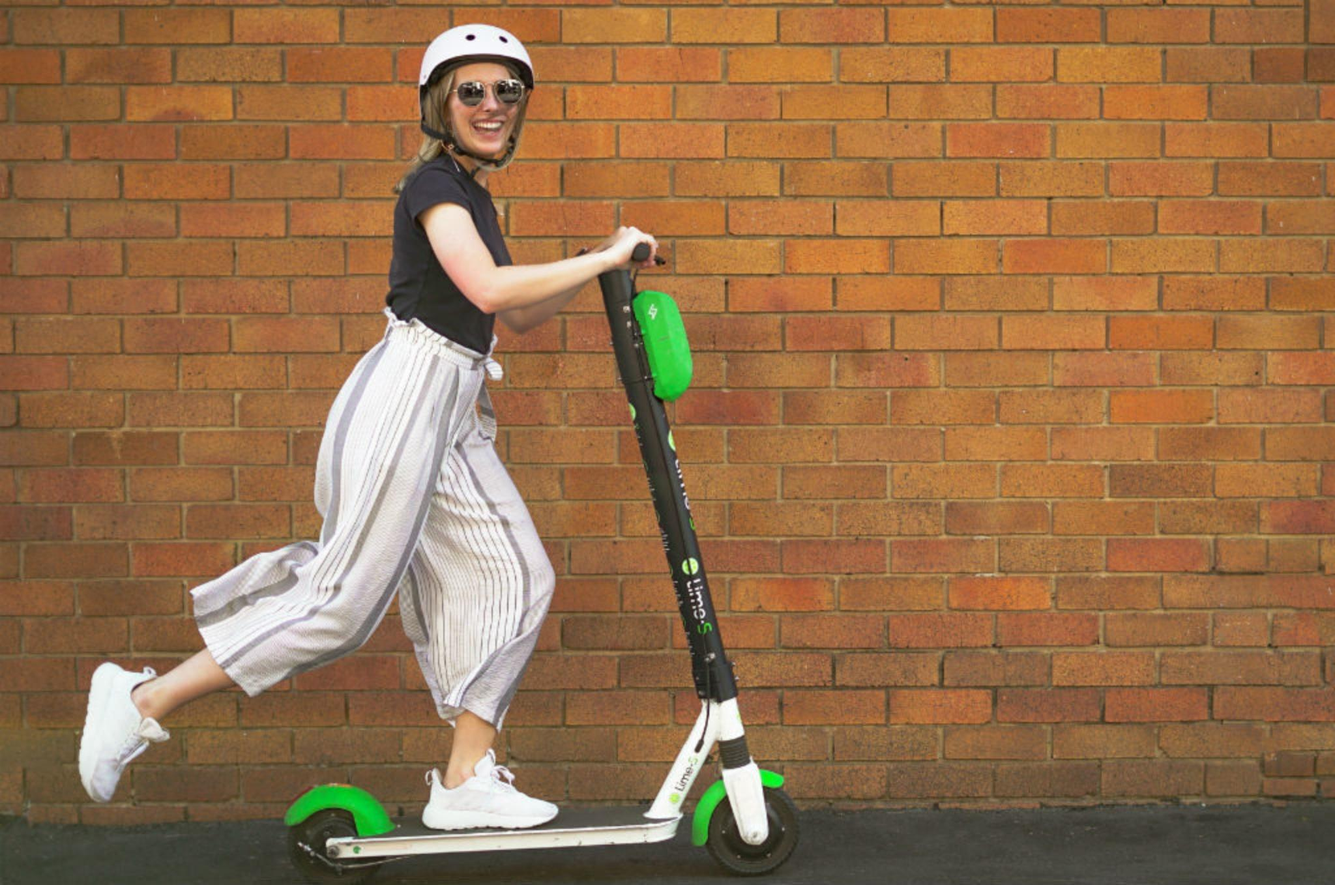helmet: (414, 24, 530, 175)
human: (84, 23, 638, 836)
kickboard: (288, 775, 802, 885)
